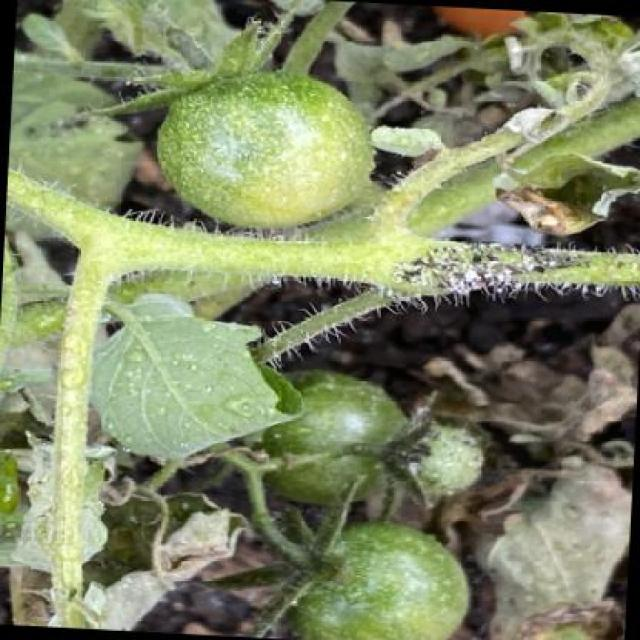unripe tomato: (148, 58, 380, 237), (245, 363, 418, 508), (288, 512, 474, 638)
